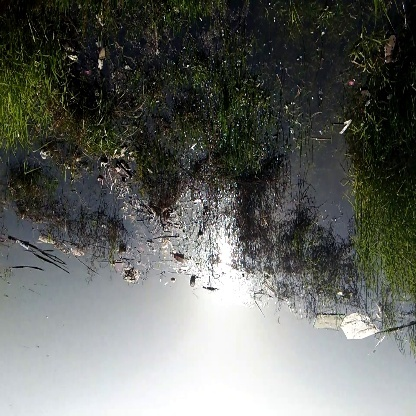plastic-bag: (341, 307, 386, 349)
